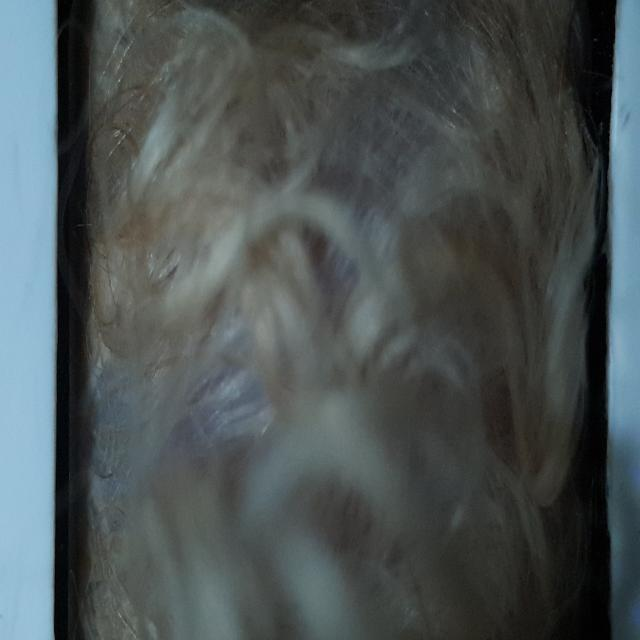fungal infection: (95, 3, 518, 494)
